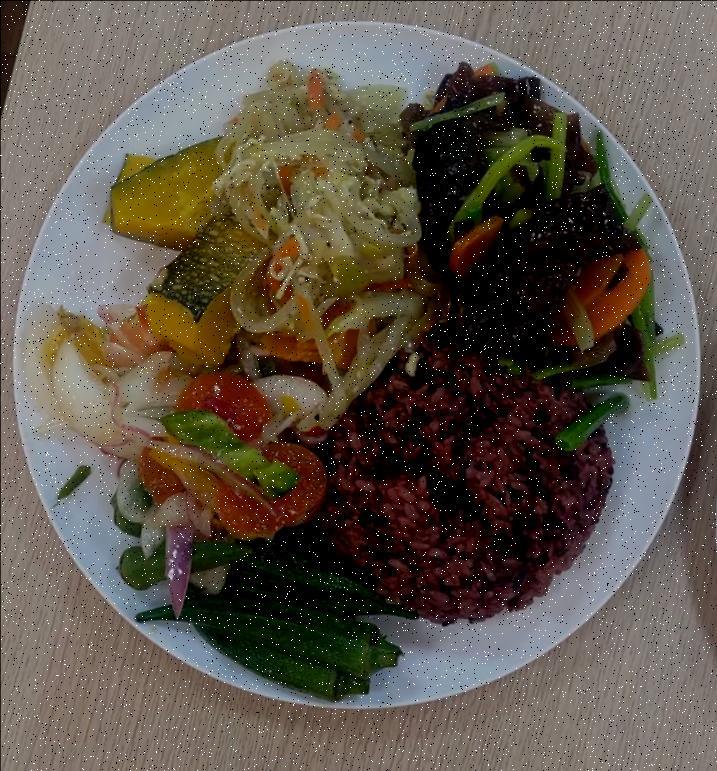plate: (15, 13, 706, 712)
purple rice: (297, 355, 614, 624)
side dish: (424, 60, 658, 388), (37, 322, 325, 538), (237, 67, 426, 363), (116, 520, 396, 700), (112, 130, 260, 358)
